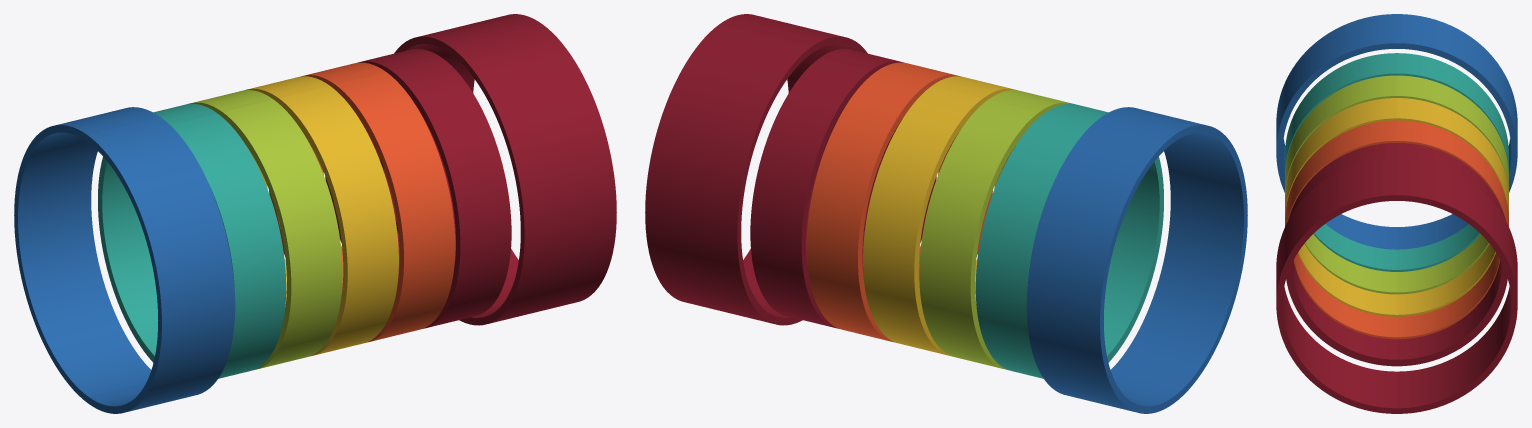
Rendered from boiler_feedwater_pump_pressure.glb.
The picture shows the model from 3 angles, left to right: view 1: azimuth 30°, elevation 25°; view 2: azimuth 150°, elevation 25°; view 3: azimuth 270°, elevation 25°; orthographic projection. The views are drawn at different scales.
Parts seen in each view (by area): view 1: pressure_rings__front, pressure_rings__back; view 2: pressure_rings__back, pressure_rings__front; view 3: pressure_rings__back, pressure_rings__front.
Boxes of the visible parts, box(x1,y1,x2,y2) form: pressure_rings__front: box(88, 24, 616, 413); pressure_rings__back: box(14, 14, 542, 402); pressure_rings__back: box(645, 24, 1173, 413); pressure_rings__front: box(719, 14, 1247, 402); pressure_rings__back: box(1397, 14, 1517, 413); pressure_rings__front: box(1276, 14, 1396, 413).
Size of the model in its own units: 0.888 by 0.5 by 0.5.
